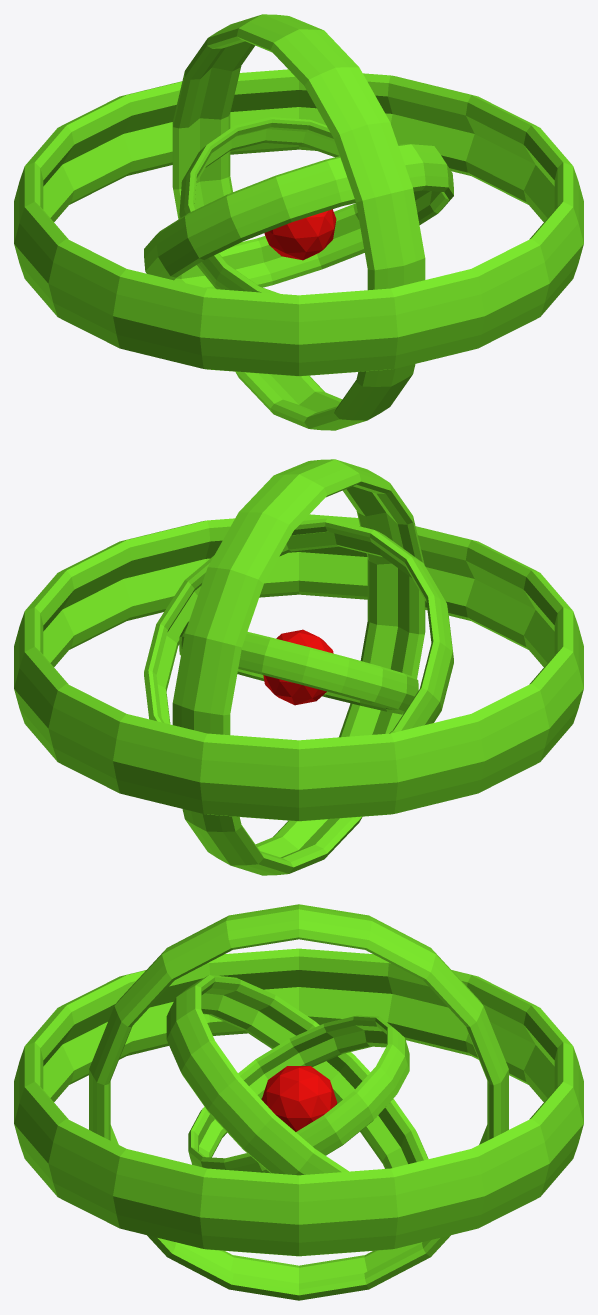
File: OphanimEnemy.fbx
3 views of the same model, one above another, from view 1: azimuth 30°, elevation 25°; view 2: azimuth 150°, elevation 25°; view 3: azimuth 270°, elevation 25° (orthographic).
Parts seen in each view (by area): view 1: Ring1, Ring2, Ring3, Ring4, Icosphere; view 2: Ring1, Ring2, Ring3, Ring4, Icosphere; view 3: Ring1, Ring2, Ring3, Ring4, Icosphere.
Boxes of the visible parts, bbox=[...] form: Ring1: bbox=[14, 69, 583, 376]; Ring2: bbox=[172, 14, 425, 430]; Ring3: bbox=[144, 143, 453, 289]; Ring4: bbox=[179, 117, 339, 293]; Icosphere: bbox=[264, 209, 336, 260]; Ring1: bbox=[14, 514, 583, 821]; Ring2: bbox=[172, 459, 425, 875]; Ring3: bbox=[144, 518, 453, 733]; Ring4: bbox=[179, 621, 418, 714]; Icosphere: bbox=[263, 629, 333, 705]; Ring1: bbox=[14, 948, 583, 1256]; Ring2: bbox=[89, 904, 508, 1300]; Ring3: bbox=[166, 975, 428, 1175]; Ring4: bbox=[188, 1015, 409, 1173]; Icosphere: bbox=[261, 1066, 337, 1131].
Bounding box in the file's own units: 453 × 334 × 446.
